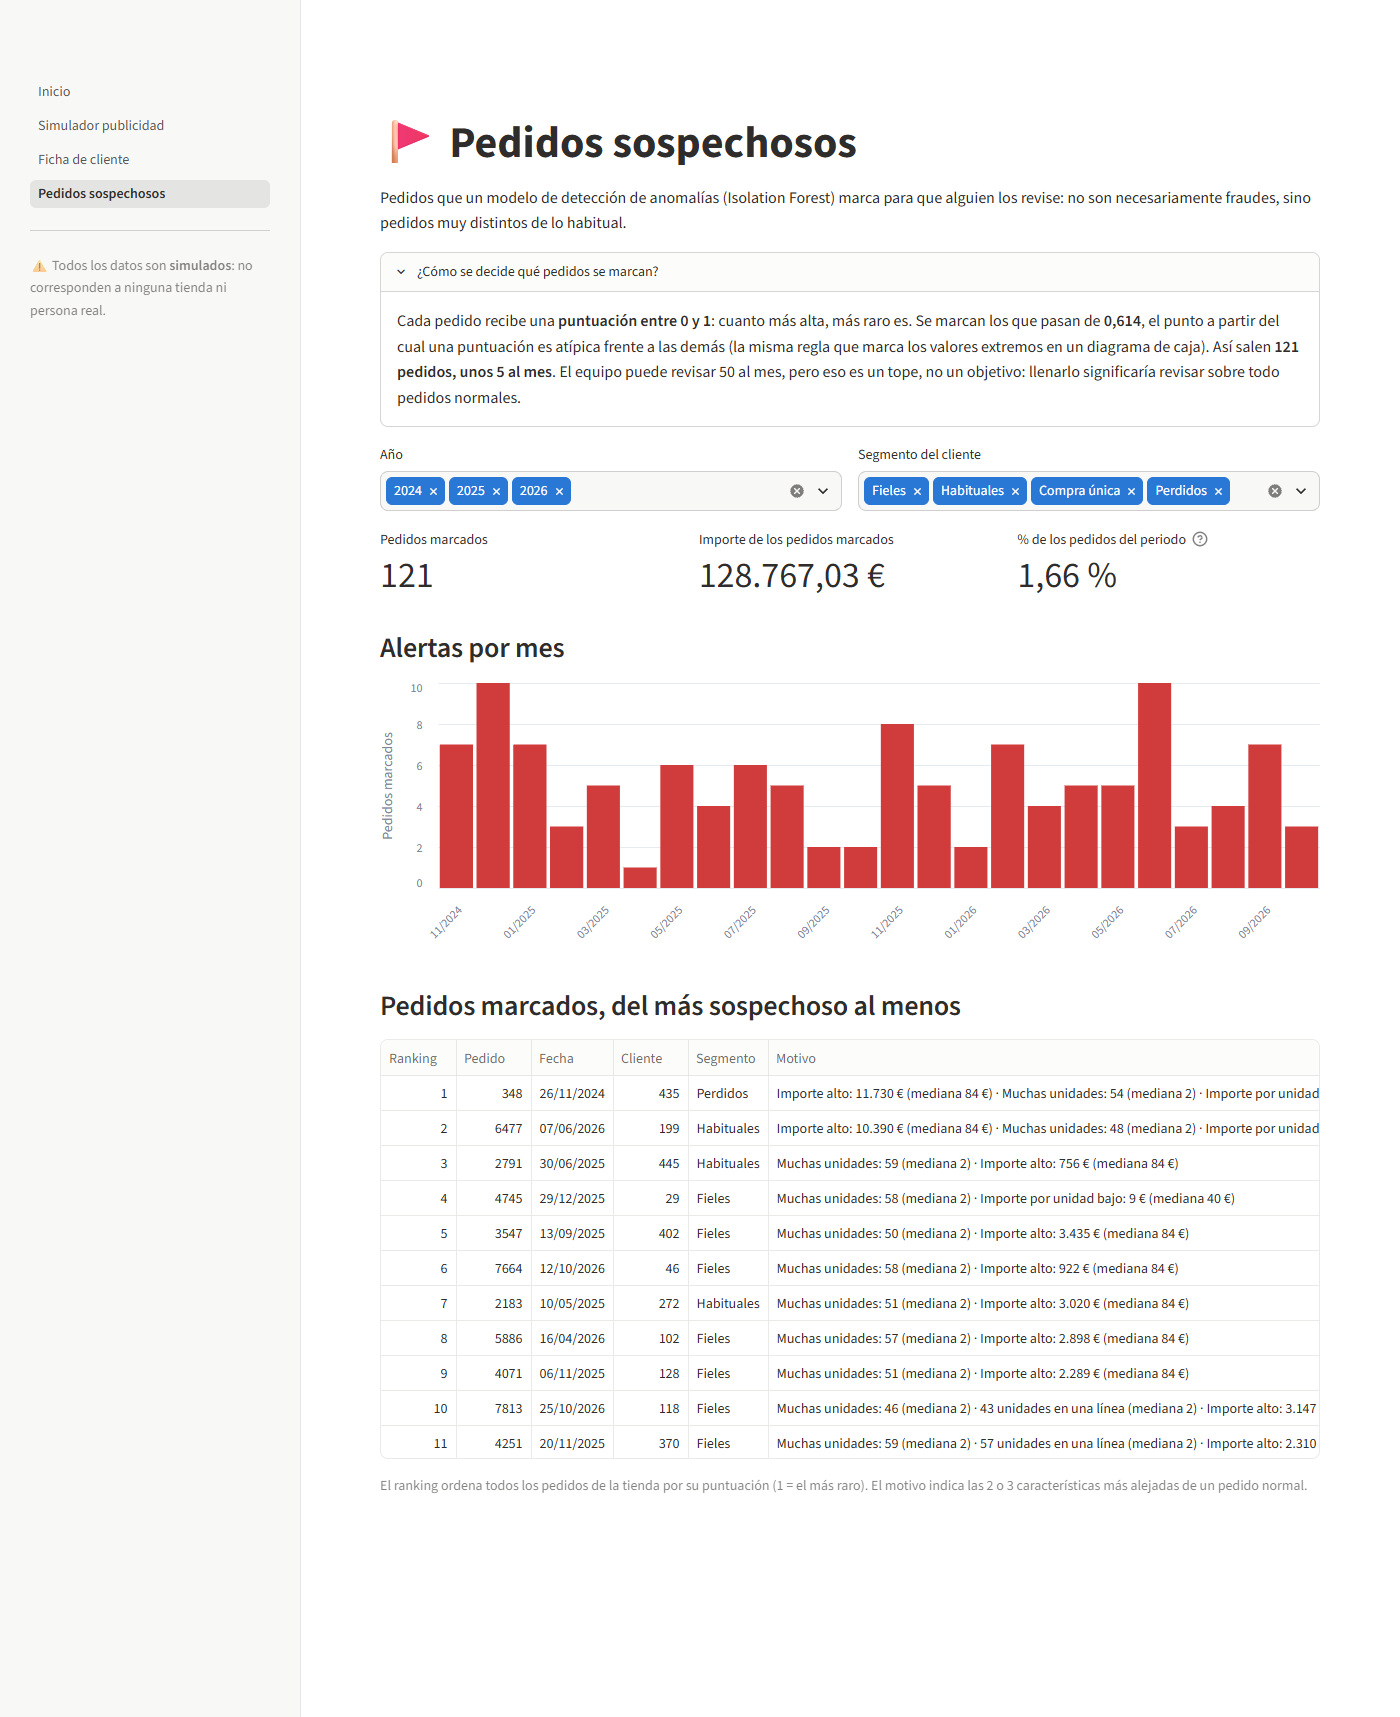

Layout of this report page (visuals, bound fields, positions):
{"tool":"powerbi","page":{"name":"Alertas","canvas":[1920,1080],"ordinal":2},"visuals":[{"type":"textbox","box":[10.1,0,269.1,67.6],"z":0},{"type":"cardVisual","fields":{"Data":["_Medidas.Pedidos marcados"]},"box":[0,68.1,348.8,173],"z":1},{"type":"cardVisual","fields":{"Data":["_Medidas.Importe pedidos marcados"]},"box":[348.8,68.1,360.2,173],"z":2},{"type":"cardVisual","fields":{"Data":["_Medidas.% pedidos marcados"]},"box":[709,68.1,374.4,173],"z":3},{"type":"slicer","fields":{"Values":["dim_fecha.anio"]},"box":[1641,0,279,69.1],"z":4},{"type":"clusteredColumnChart","title":"Pedidos marcados por mes","fields":{"Category":["dim_fecha.anio_mes"],"Y":["_Medidas.Pedidos marcados"]},"box":[0,241.1,794.1,411.2],"z":5},{"type":"clusteredBarChart","title":"Pedidos marcados por segmento del cliente ","fields":{"Category":["dim_cliente.nombre_segmento"],"Y":["_Medidas.Pedidos marcados"]},"box":[794.1,241.1,794,411],"z":6},{"type":"tableEx","title":"Pedidos marcados, del más sospechoso al menos ","fields":{"Values":["fact_alertas.ranking","fact_alertas.id_pedido","dim_fecha.fecha","dim_cliente.id_cliente","dim_cliente.nombre_segmento","fact_alertas.motivo_principal","fact_alertas.puntuacion","_Medidas.Importe pedidos marcados"]},"box":[0,652.3,1920,419.7],"z":7}]}

Visuals, with their boxes on the page's 1920x1080 design canvas (x1, y1, x2, y2). These are canvas units, not pixel positions in the 1400x1717 screenshot, which may show the page scaled, cropped or inside an application window:
textbox: [x1=10, y1=0, x2=279, y2=68]
cardVisual - _Medidas.Pedidos marcados: [x1=0, y1=68, x2=349, y2=241]
cardVisual - _Medidas.Importe pedidos marcados: [x1=349, y1=68, x2=709, y2=241]
cardVisual - _Medidas.% pedidos marcados: [x1=709, y1=68, x2=1083, y2=241]
slicer - dim_fecha.anio: [x1=1641, y1=0, x2=1920, y2=69]
"Pedidos marcados por mes" clusteredColumnChart: [x1=0, y1=241, x2=794, y2=652]
"Pedidos marcados por segmento del cliente " clusteredBarChart: [x1=794, y1=241, x2=1588, y2=652]
"Pedidos marcados, del más sospechoso al menos " tableEx: [x1=0, y1=652, x2=1920, y2=1072]
